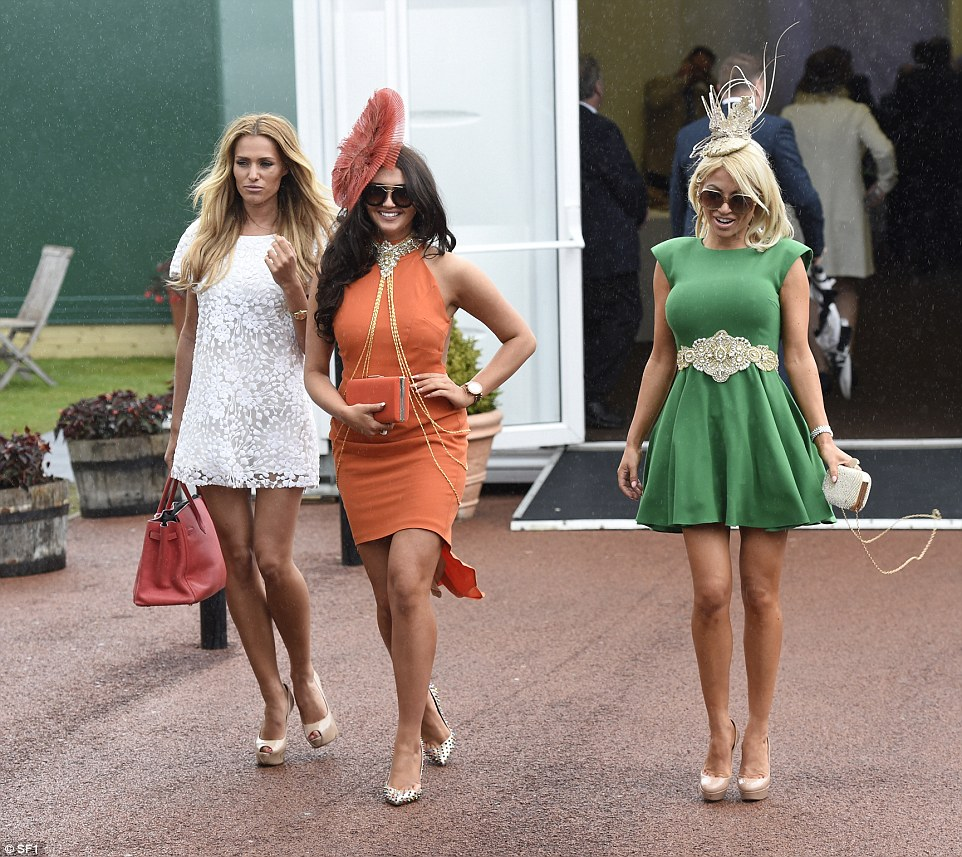Person: (616, 22, 861, 803), (306, 91, 535, 807), (163, 114, 337, 769)
